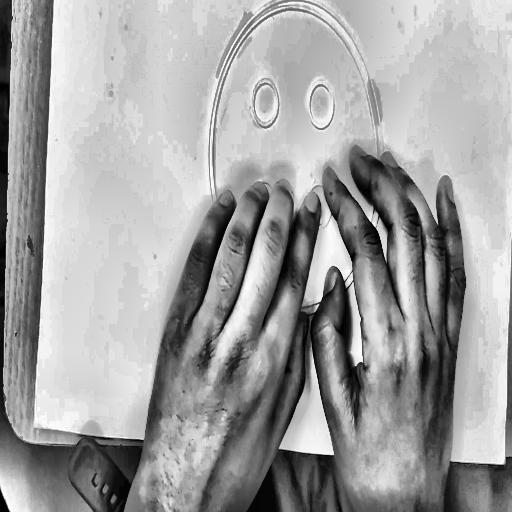bottom_left: (29, 415, 39, 432)
bottom_right: (499, 454, 509, 469)
button: (196, 0, 392, 337)
